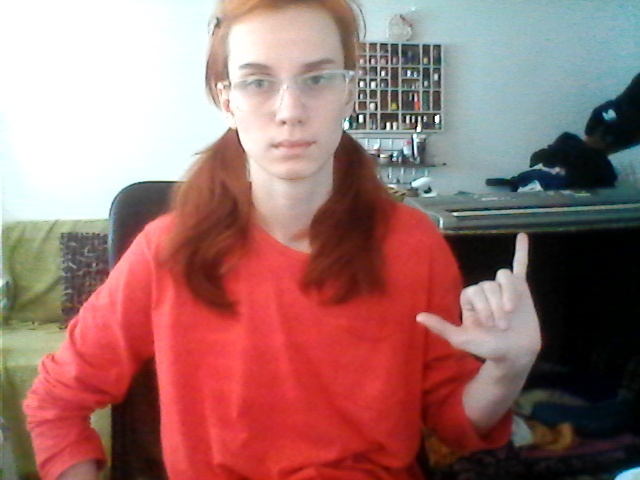kto: (408, 229, 549, 369)
